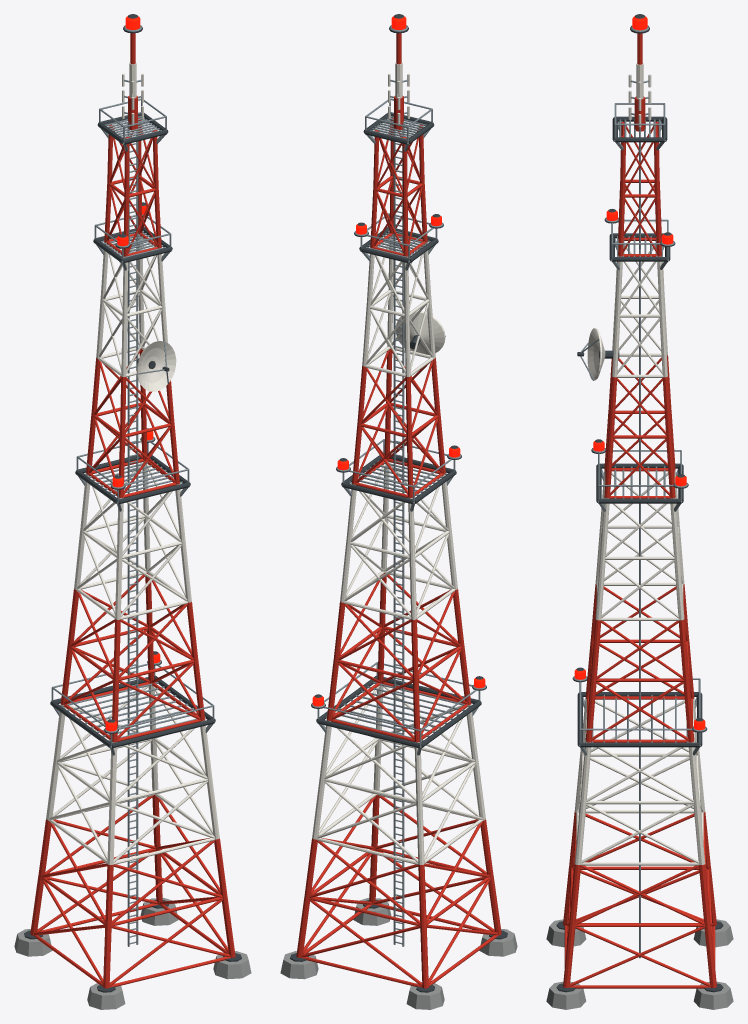
Rendered from radio_tower.glb.
3 views of the same model, side by side, from view 1: azimuth 30°, elevation 25°; view 2: azimuth 150°, elevation 25°; view 3: azimuth 270°, elevation 25° (orthographic).
Parts seen in each view (by area): view 1: Enamelled lattice, Service galleries and obstruction lights, Climbing ladder, Foundation piers, Microwave dish, Broadcast antenna and summit beacon; view 2: Enamelled lattice, Service galleries and obstruction lights, Climbing ladder, Foundation piers, Broadcast antenna and summit beacon, Microwave dish; view 3: Enamelled lattice, Service galleries and obstruction lights, Foundation piers, Broadcast antenna and summit beacon, Climbing ladder, Microwave dish.
Boxes of the visible parts, x1,y1,x2,y2 form: Enamelled lattice: [30, 118, 235, 988]; Service galleries and obstruction lights: [50, 98, 215, 755]; Climbing ladder: [127, 120, 138, 946]; Foundation piers: [14, 897, 251, 1009]; Microwave dish: [136, 341, 176, 391]; Broadcast antenna and summit beacon: [122, 14, 143, 129]; Enamelled lattice: [296, 118, 501, 988]; Service galleries and obstruction lights: [311, 98, 486, 755]; Climbing ladder: [393, 120, 404, 946]; Foundation piers: [280, 897, 517, 1009]; Broadcast antenna and summit beacon: [388, 14, 409, 129]; Microwave dish: [395, 310, 445, 355]; Enamelled lattice: [563, 121, 716, 988]; Service galleries and obstruction lights: [572, 103, 707, 755]; Foundation piers: [546, 919, 733, 1009]; Broadcast antenna and summit beacon: [628, 14, 651, 131]; Climbing ladder: [639, 127, 640, 958]; Microwave dish: [577, 328, 619, 380].
Bounding box in the file's own units: 9.92 × 55.79 × 9.92.
